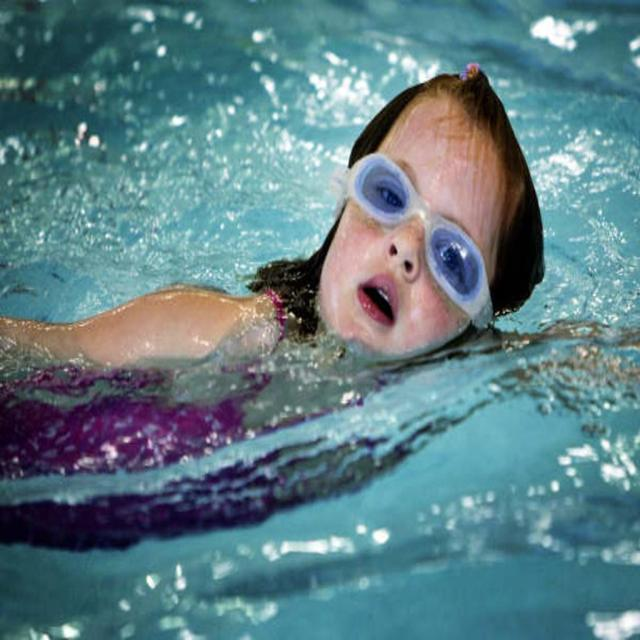Face: (322, 90, 521, 369)
